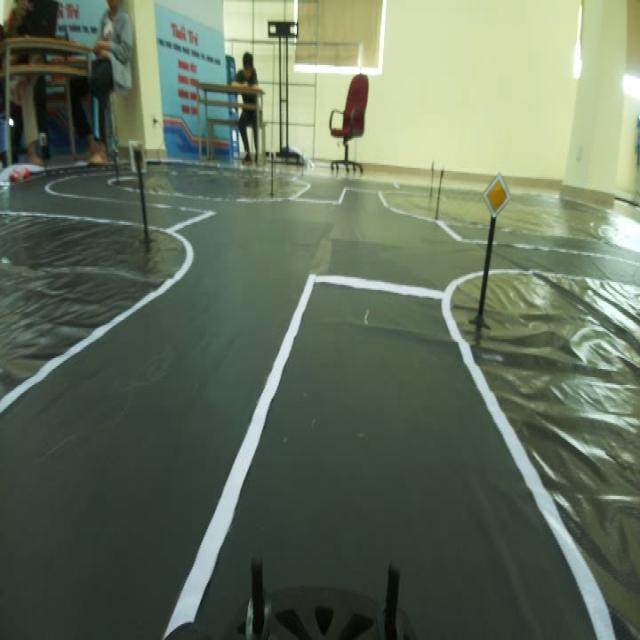priority: (481, 162, 515, 228)
